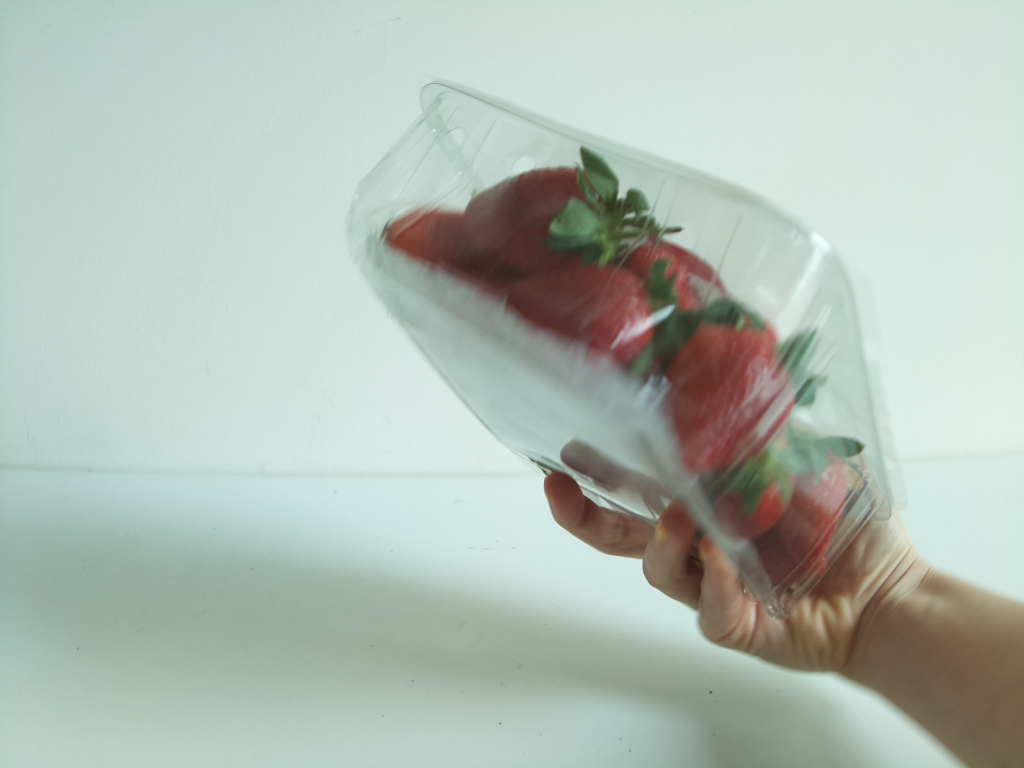soft-fruit: (349, 75, 901, 612)
